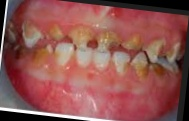Caries: (132, 63, 151, 79), (104, 39, 124, 52), (150, 63, 164, 77)
